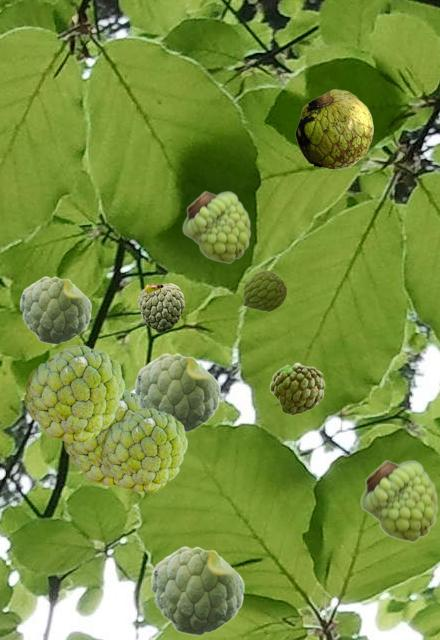atis: (24, 345, 123, 441), (150, 546, 244, 634), (100, 408, 186, 491), (64, 389, 138, 485), (134, 353, 220, 432), (360, 459, 437, 542), (295, 89, 372, 168), (182, 190, 250, 263), (19, 276, 91, 343), (269, 362, 324, 414), (137, 283, 183, 332), (243, 270, 285, 310)
